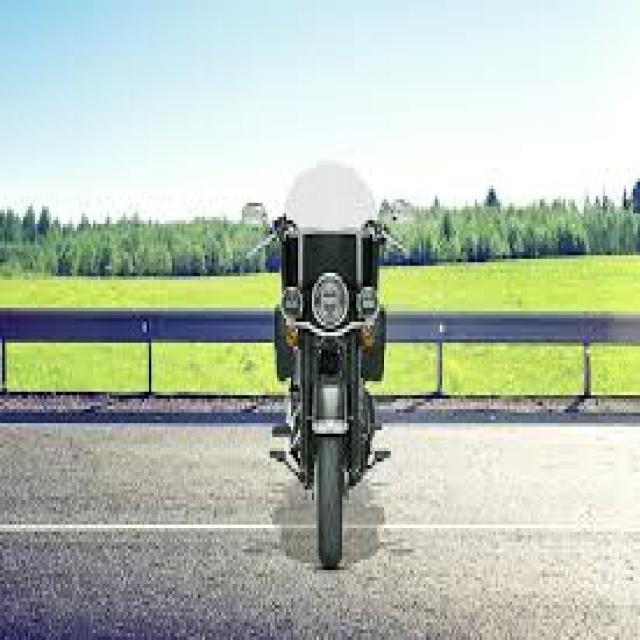Bike: (242, 156, 404, 572)
